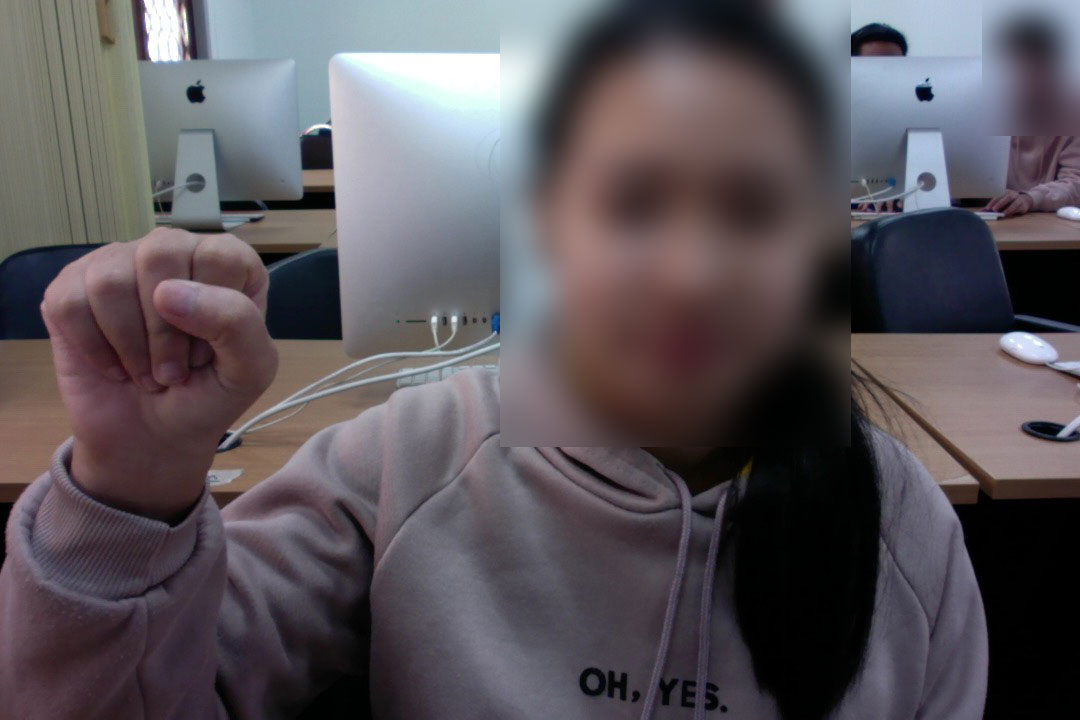sor: (31, 210, 284, 500)
